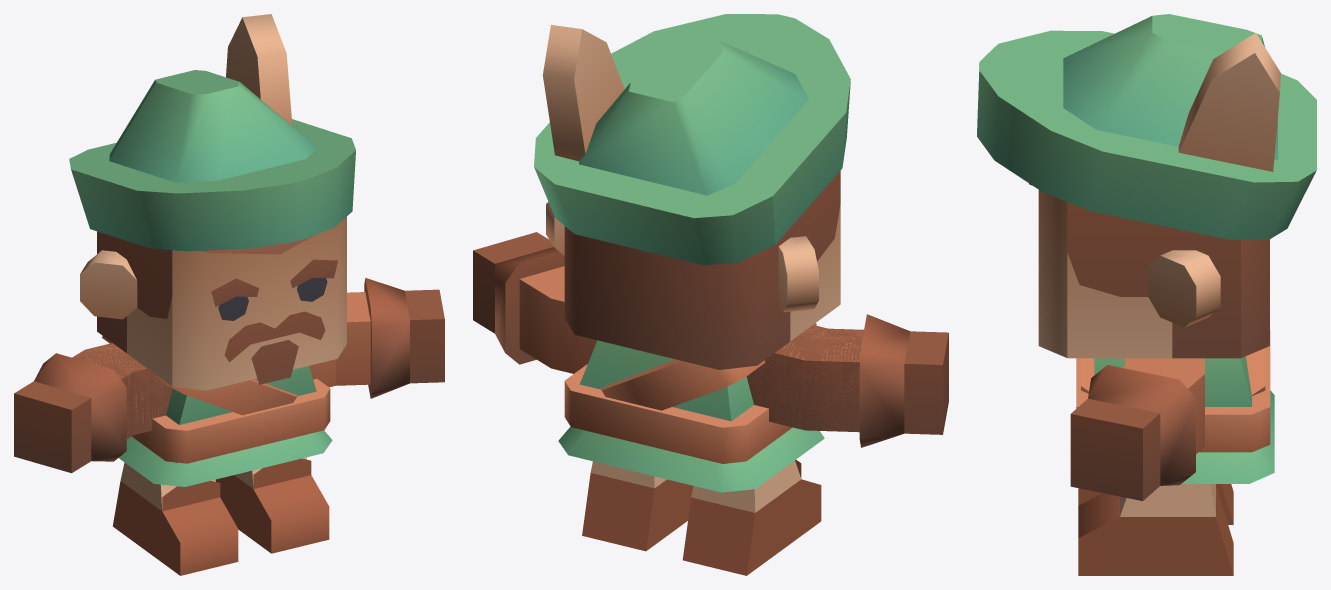
Rendered from character-archer.obj.
The picture shows the model from 3 angles, left to right: view 1: azimuth 30°, elevation 25°; view 2: azimuth 150°, elevation 25°; view 3: azimuth 270°, elevation 25°; orthographic projection. The views are drawn at different scales.
Size of the model in its own units: 0.7806 by 0.821 by 0.47.
1 material, 1 textured.
